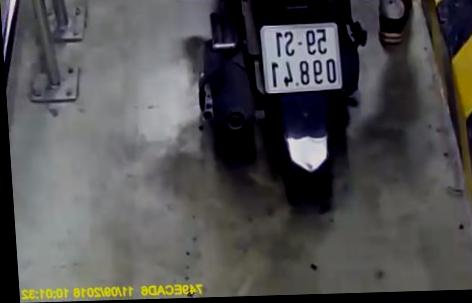License_Plate: (257, 19, 347, 94)
